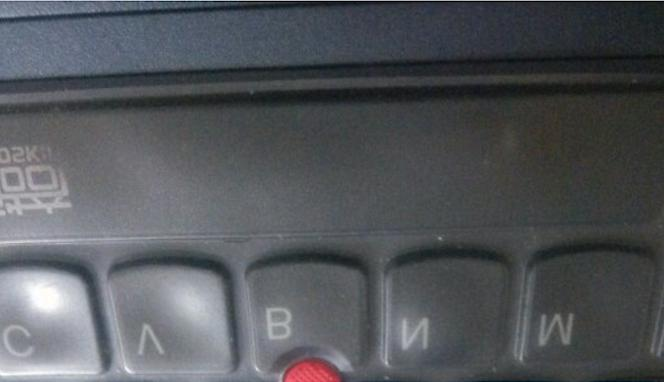ImgView: (1, 1, 663, 381)
